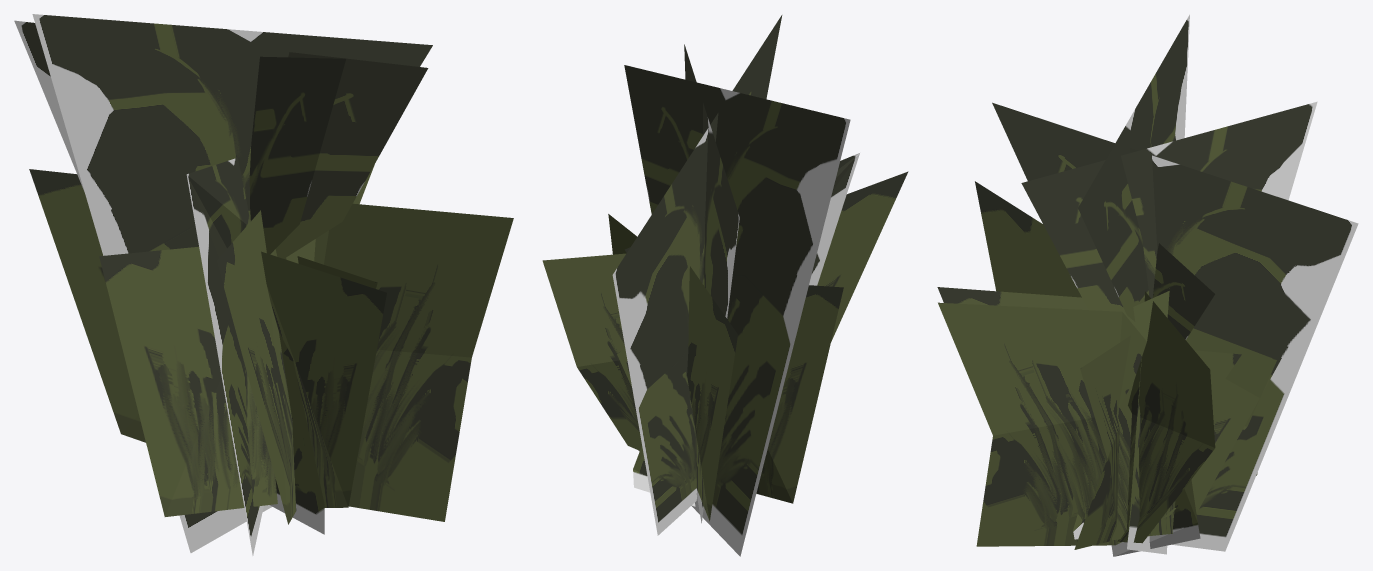
Rendered from shared_green_grass_02.fbx.
The picture shows the model from 3 angles, left to right: view 1: azimuth 30°, elevation 25°; view 2: azimuth 150°, elevation 25°; view 3: azimuth 270°, elevation 25°; orthographic projection. The views are drawn at different scales.
Parts seen in each view (by area): view 1: shared_green_grass_02; view 2: shared_green_grass_02; view 3: shared_green_grass_02.
Boxes of the visible parts, <box> form: shared_green_grass_02: <box>14,14,513,555</box>; shared_green_grass_02: <box>542,15,908,556</box>; shared_green_grass_02: <box>937,14,1358,556</box>.
Bounding box in the file's own units: 0.9025 × 1.37 × 1.09.
